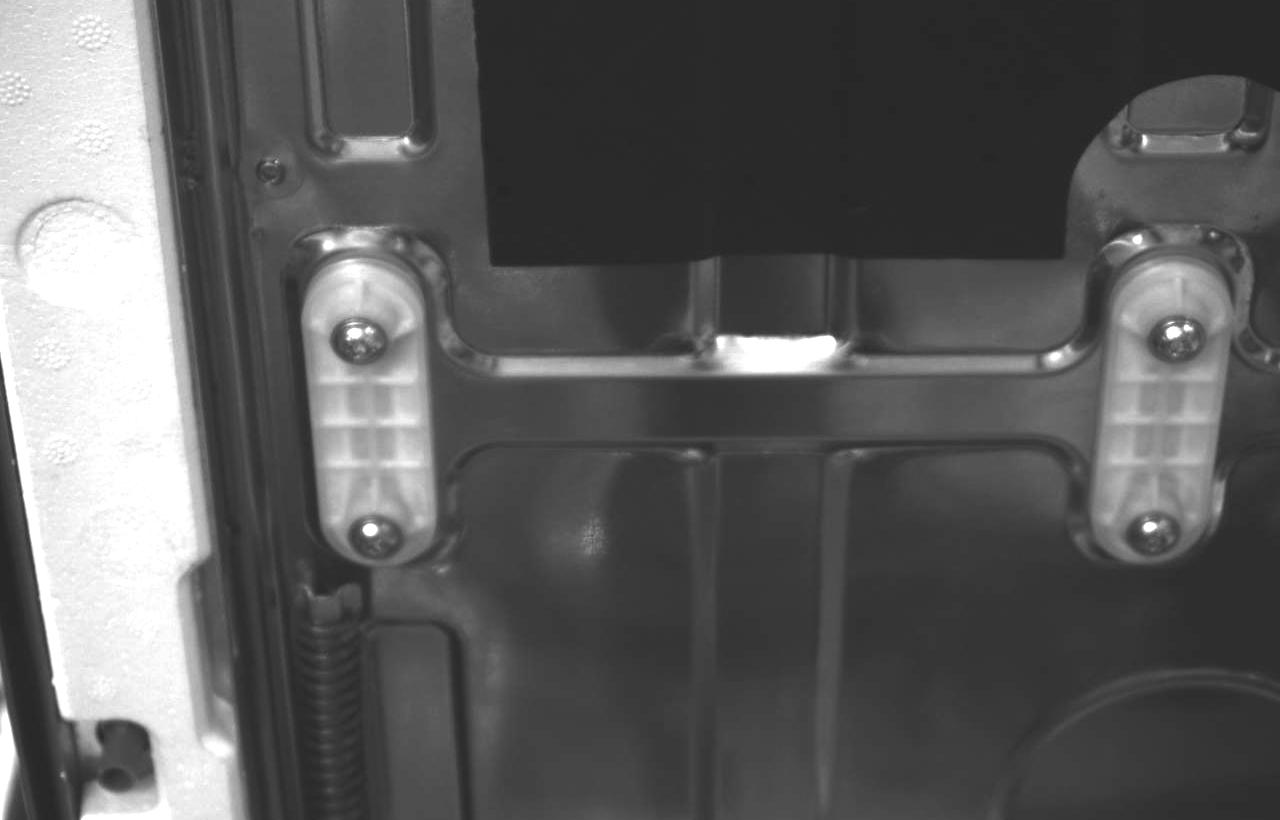vida-ok: (317, 306, 404, 383), (1122, 306, 1210, 378), (337, 511, 414, 575), (1112, 501, 1187, 560)
